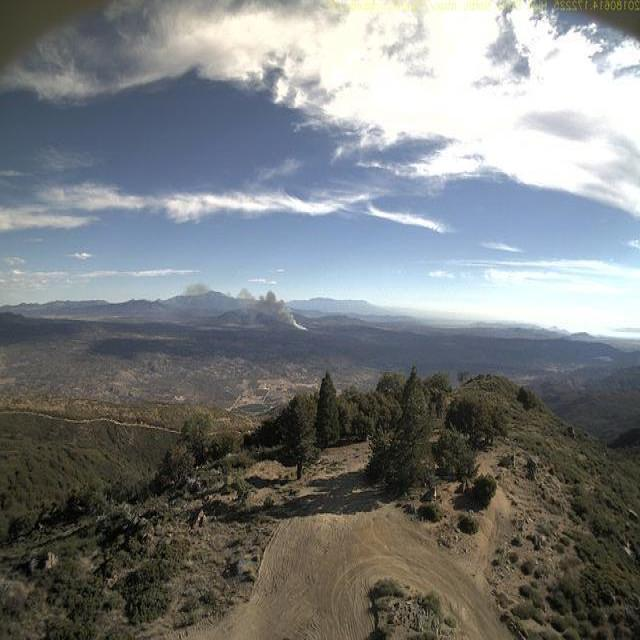Smoke: (178, 279, 311, 333)
